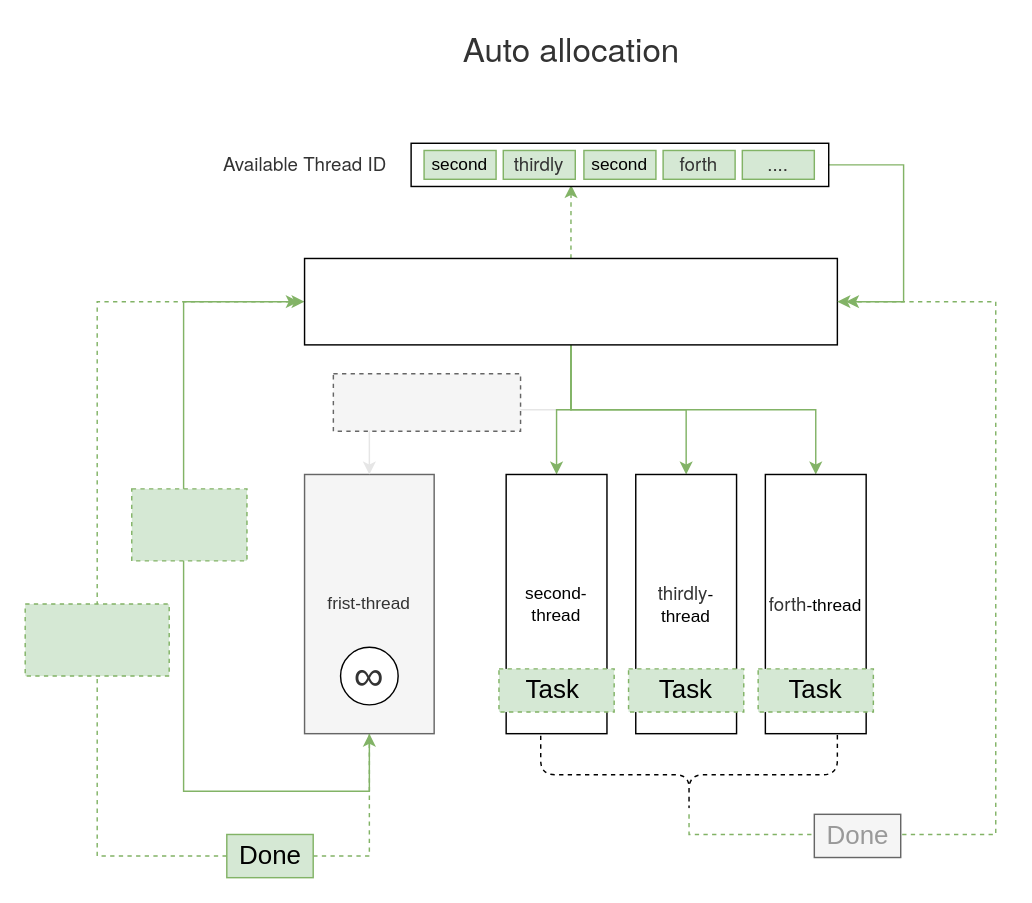
This 1032x903 diagram has some shape labels left out. Each missing label, with the centre of its shape:
"Complete 1000/1000" belongs at pixel 96 639.
"Master" belongs at pixel 570 301.
"Running 20/1000" belongs at pixel 188 524.
"Stop distribution" belongs at pixel 426 401.
